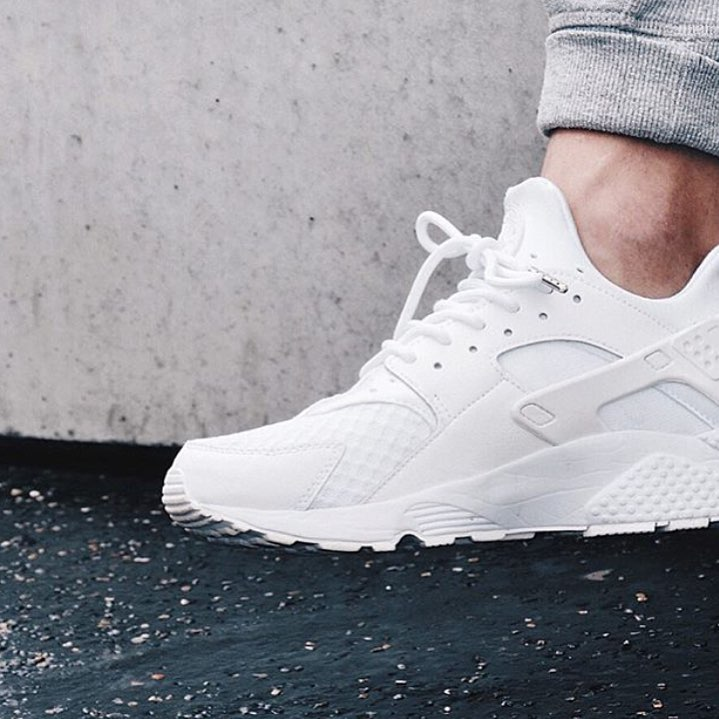sneaker: (132, 69, 719, 582)
